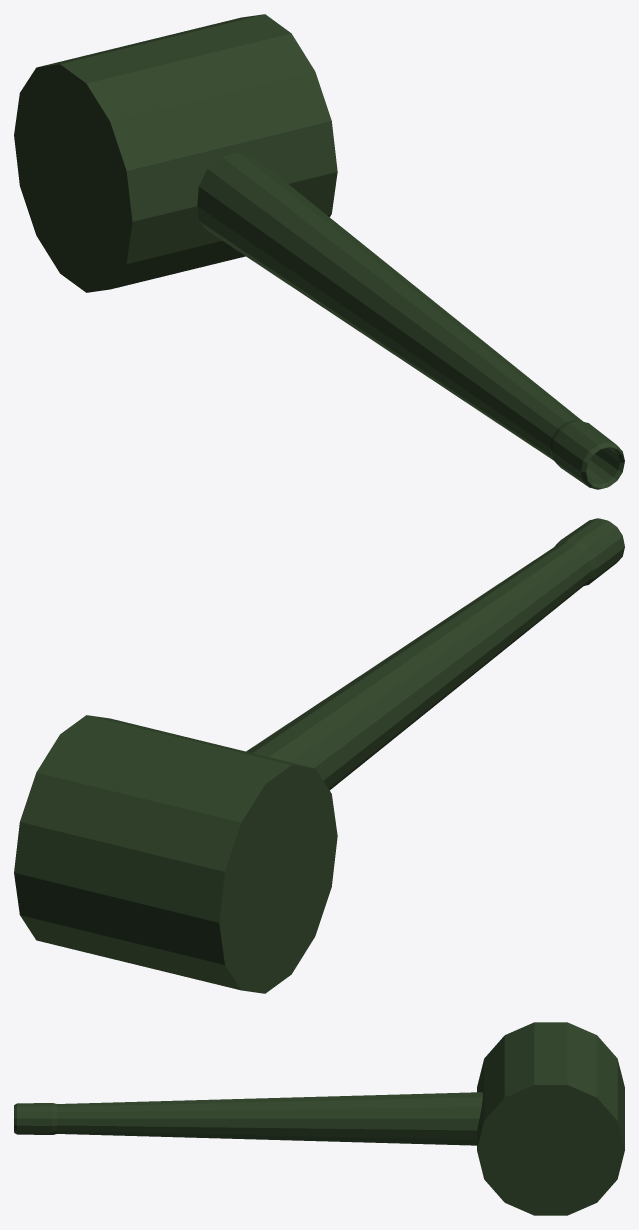
Rendered from GREEN FINISHED TANK BARREL 2.fbx.
3 renders of one model, top to bottom at view 1: azimuth 30°, elevation 25°; view 2: azimuth 150°, elevation 25°; view 3: azimuth 270°, elevation 25°, orthographic. The views are drawn at different scales.
Visible parts, largest first — view 1: Cylinder.001, Cylinder.002; view 2: Cylinder.001, Cylinder.002; view 3: Cylinder.001, Cylinder.002.
Part boxes in pixels (x1=…): Cylinder.001: x1=14, y1=14, x2=337, y2=292; Cylinder.002: x1=197, y1=152, x2=624, y2=489; Cylinder.001: x1=14, y1=715, x2=337, y2=993; Cylinder.002: x1=246, y1=518, x2=624, y2=790; Cylinder.001: x1=477, y1=1022, x2=624, y2=1215; Cylinder.002: x1=14, y1=1092, x2=482, y2=1145.
Bounding box in the file's own units: 71.47 × 69.68 × 295.
